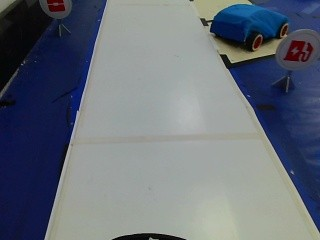battery: (280, 34, 317, 71)
car: (202, 3, 290, 44)
company: (43, 0, 69, 19)
